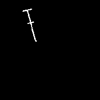double_crochet: (23, 9, 35, 40)
